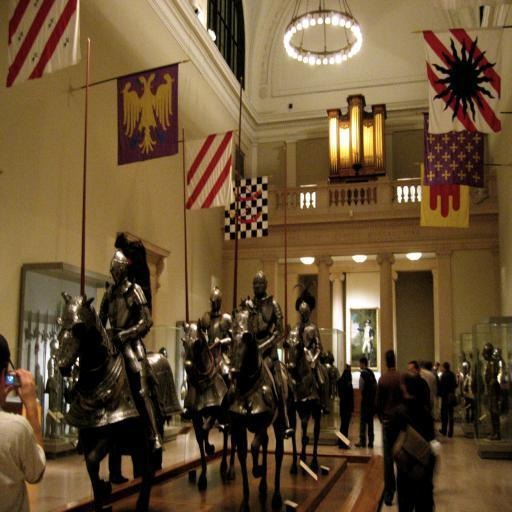horse: (56, 290, 166, 512), (226, 316, 298, 512), (182, 318, 240, 496), (286, 320, 350, 477)
